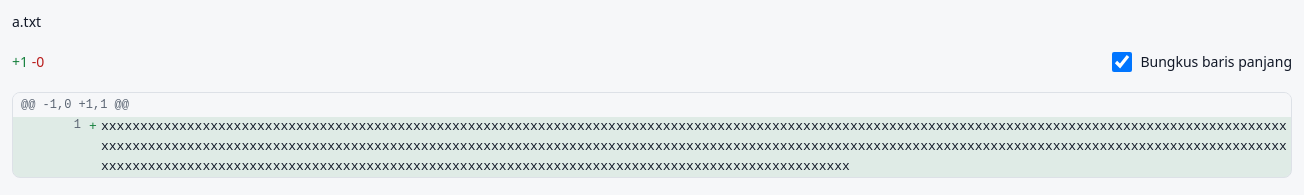
Scenario: DiffViewer: baris panjang › bawaan: baris dibungkus (yang disetujui terlihat utuh, sama seperti teks cadangan); mematikan bungkus membuat hunk bisa digulir ke samping
Click the checkbox labelled "Bungkus baris panjang": click(1122, 62) [1112,52,1132,72]
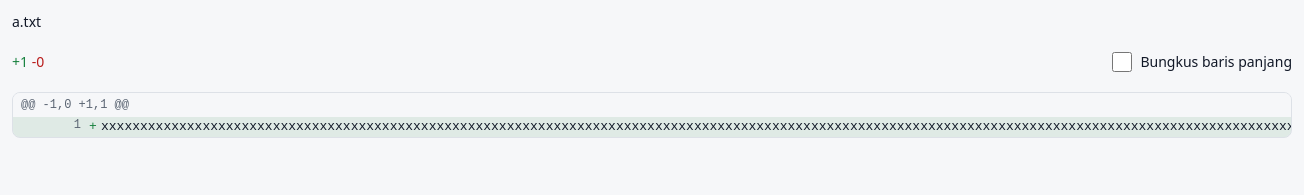
Expected: the element with class "overflow-x-auto" is shown, [13,117,1291,137]
